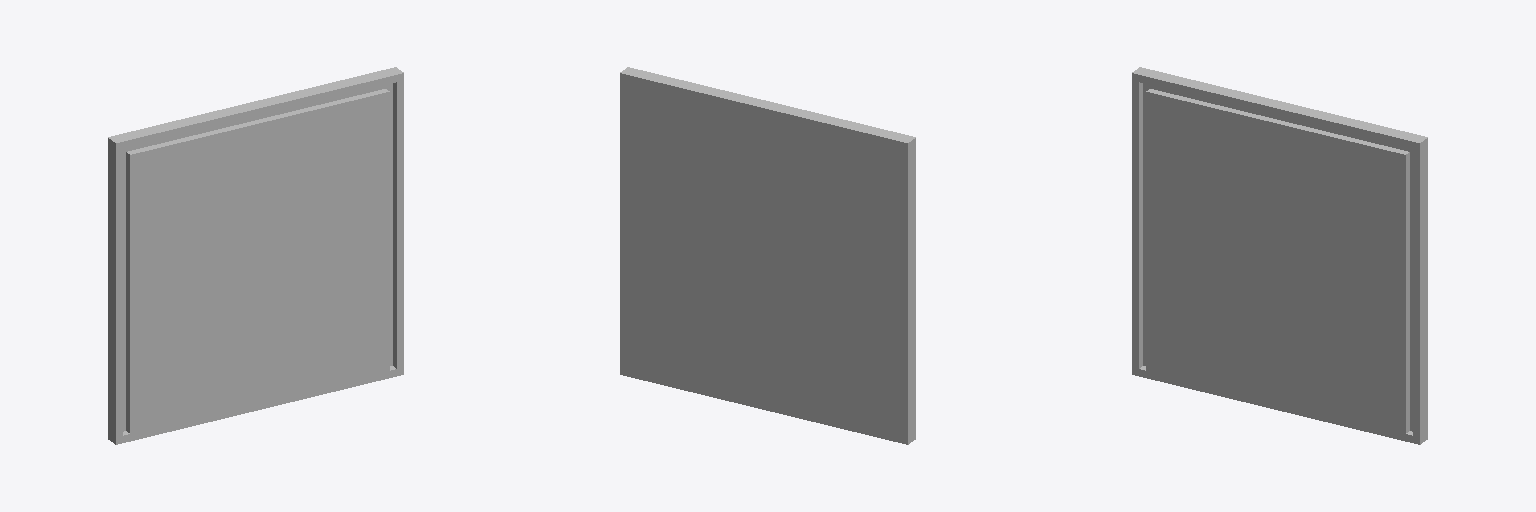
The model's file is Wanted.obj.
3 renders of one model, left to right at view 1: azimuth 30°, elevation 25°; view 2: azimuth 150°, elevation 25°; view 3: azimuth 330°, elevation 25°, orthographic.
Visible parts, largest first — view 1: object 1; view 2: object 1; view 3: object 1.
Boxes of the visible parts, <box> form: object 1: <box>108,67,403,444</box>; object 1: <box>620,67,915,444</box>; object 1: <box>1132,67,1427,444</box>.
Bounding box in the file's own units: 4 × 4 × 0.2.